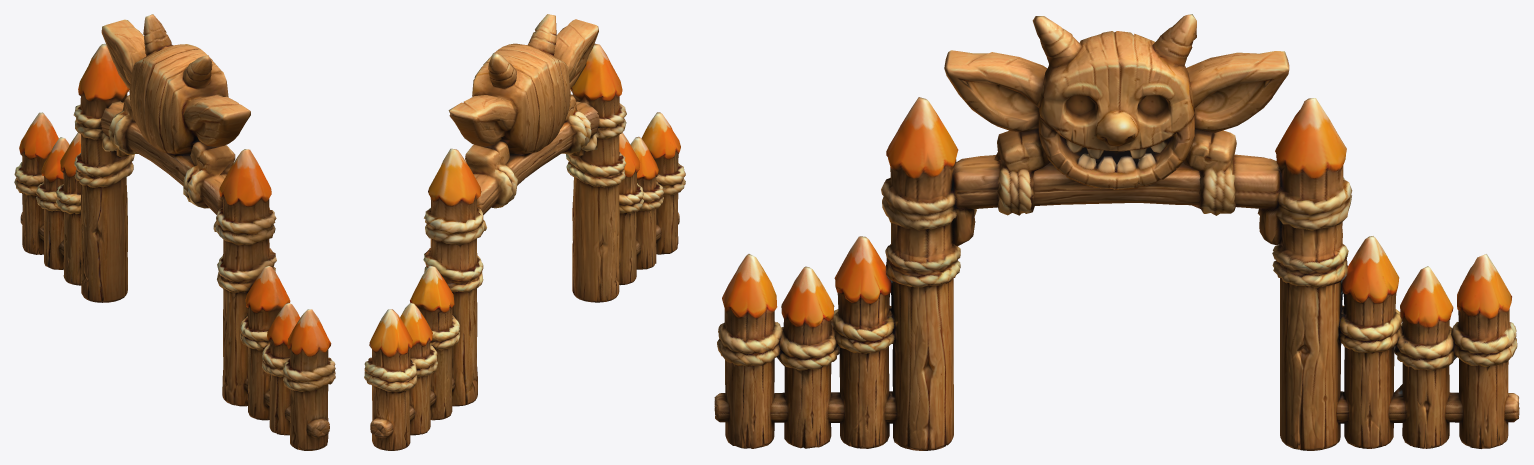
File: W_GateOpen_HD_src.glb
The picture shows the model from 3 angles, left to right: view 1: azimuth 30°, elevation 25°; view 2: azimuth 150°, elevation 25°; view 3: azimuth 270°, elevation 25°; orthographic projection. The views are drawn at different scales.
Parts seen in each view (by area): view 1: tripo_node_48ce5f34-5ec8-4180-864a-35212b9ae2de; view 2: tripo_node_48ce5f34-5ec8-4180-864a-35212b9ae2de; view 3: tripo_node_48ce5f34-5ec8-4180-864a-35212b9ae2de.
Part boxes in pixels (bbox=[...]): tripo_node_48ce5f34-5ec8-4180-864a-35212b9ae2de: bbox=[14, 14, 335, 450]; tripo_node_48ce5f34-5ec8-4180-864a-35212b9ae2de: bbox=[364, 14, 685, 450]; tripo_node_48ce5f34-5ec8-4180-864a-35212b9ae2de: bbox=[714, 14, 1519, 450].
Bounding box in the file's own units: 0.1458 × 0.5702 × 0.9777.
Materials: 1 (1 with a texture image).
